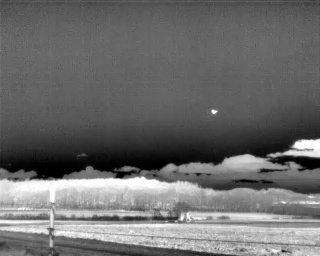DRONE: (208, 105, 221, 118)
